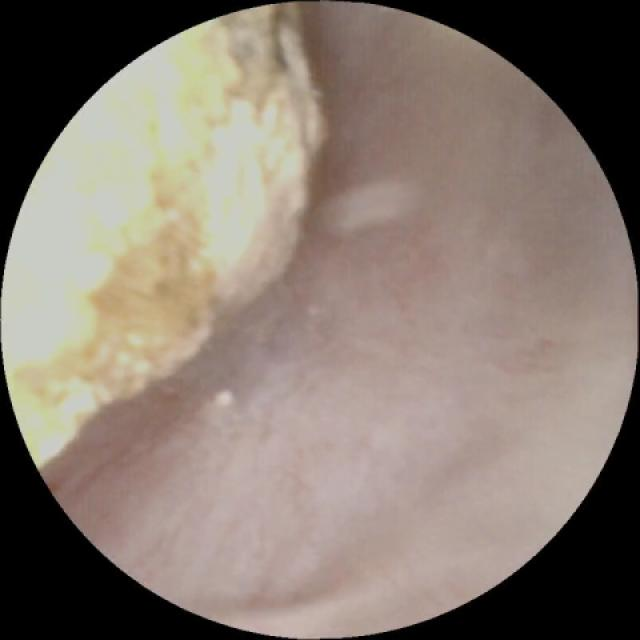stone: (15, 11, 322, 466)
tissue: (58, 19, 631, 623)
